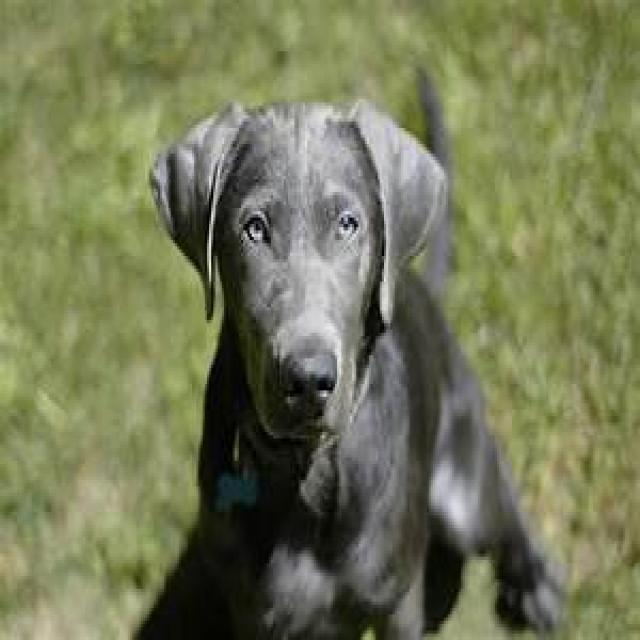dog: (139, 81, 562, 638)
